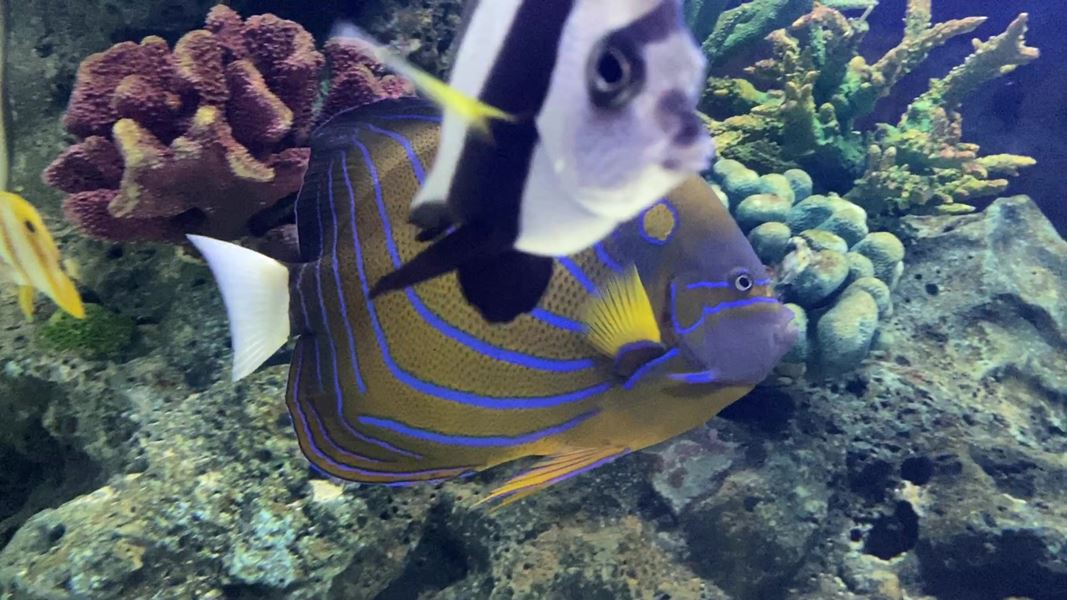Blue ring angelfish: (178, 76, 806, 521)
